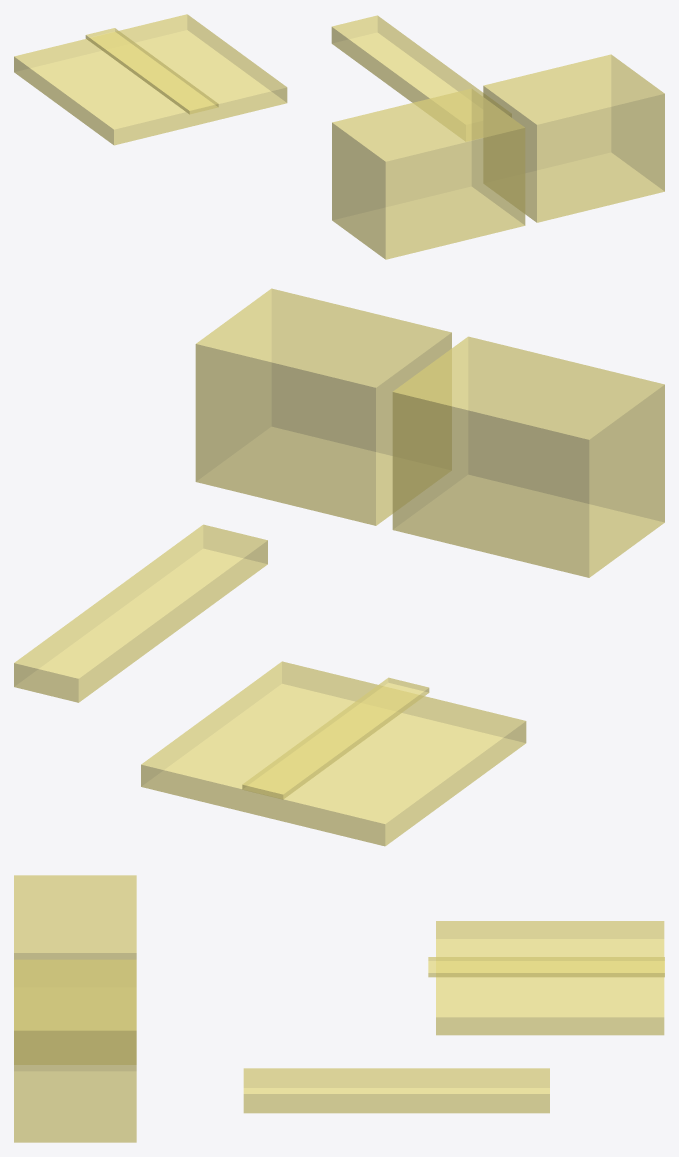
The model's file is Fabrication_Setup.dae.
The picture shows the model from 3 angles, top to bottom: view 1: azimuth 30°, elevation 25°; view 2: azimuth 150°, elevation 25°; view 3: azimuth 270°, elevation 25°; orthographic projection. The views are drawn at different scales.
Parts seen in each view (by area): view 1: Brep (×5); view 2: Brep (×5); view 3: Brep (×5).
Boxes of the visible parts, x1,y1,x2,y2 form: Brep (×5): (14,14,664,259); Brep (×5): (14,288,664,846); Brep (×5): (14,875,664,1142).
Bounding box in the file's own units: 3145 × 4250 × 805.
